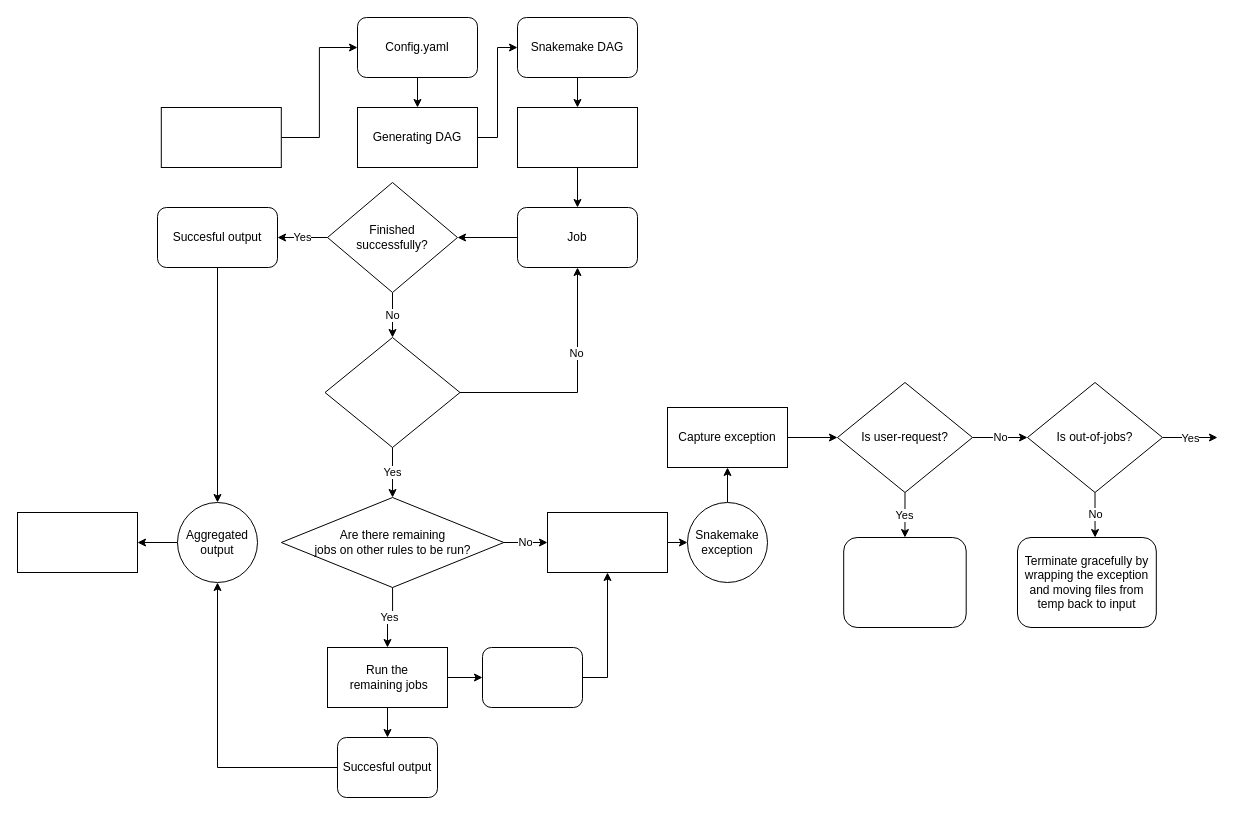
This 1243x815 diagram has some shape labels left out. Each missing label, with the centre of its shape:
Aggregate list of failed jobs: pixel 607 542
Failed after reruns: pixel 532 677
Is re-run counter exceeded the limit?: pixel 392 392
Mapping inputs & outputs: pixel 220 137
Rule (static in terms of input & output at this point): pixel 577 137
Terminate gracefully and move files from temp back to input: pixel 904 582
Terminate with success message: pixel 77 542
